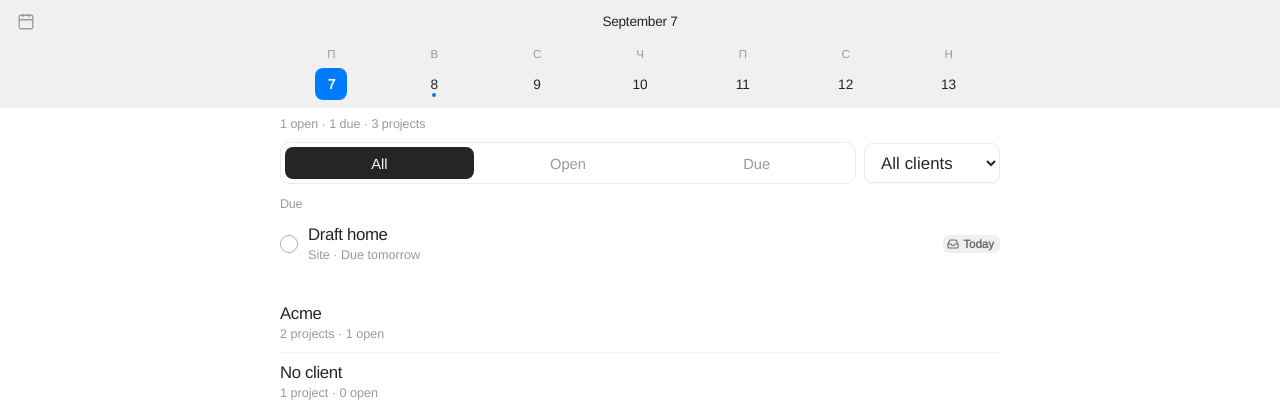
ProjectsHub › filters the table to clients with open work
Click the radio button labelled "Open": {"x": 568, "y": 163} [474,147,662,179]
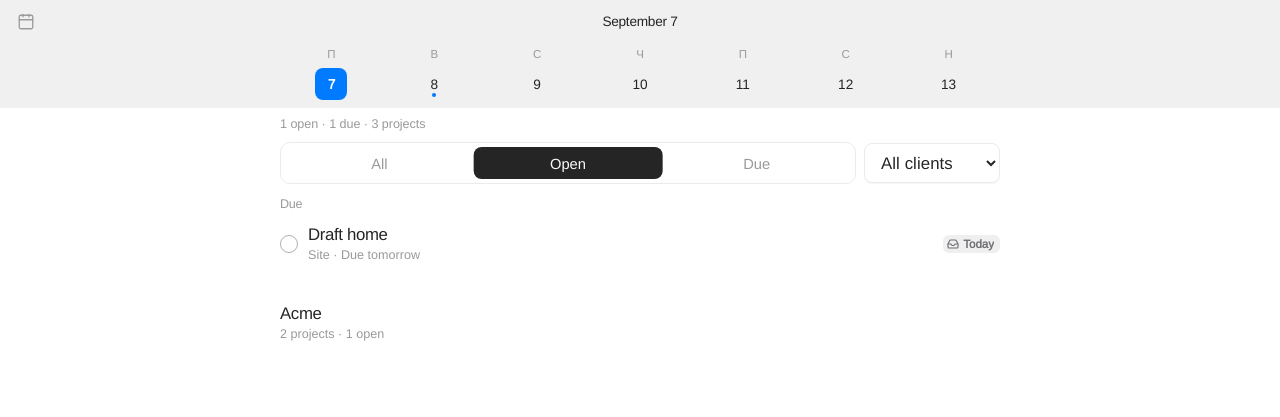
Expected: the button "Acme 2 projects · 1 open" is shown, [280,293,1000,352]
Result: the button "No client" is gone
